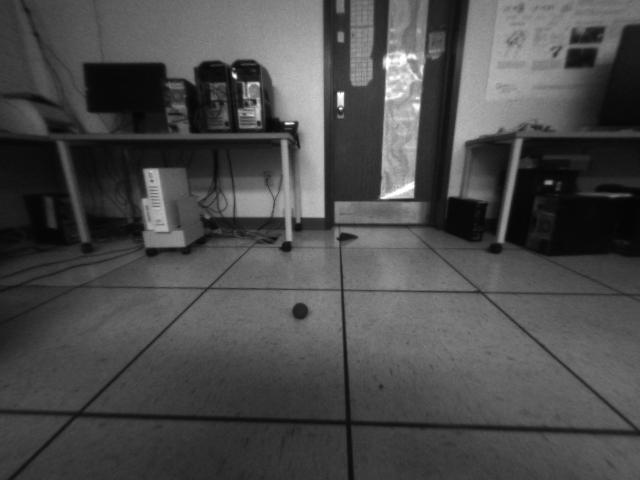dogtoy: (285, 295, 313, 324)
